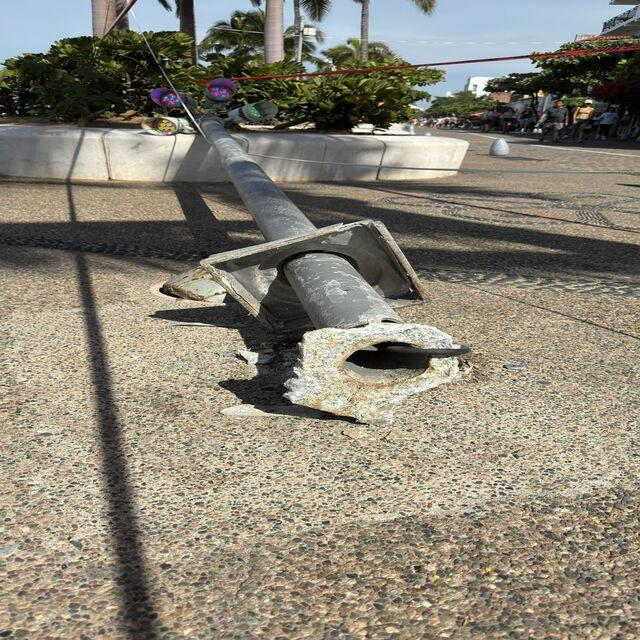Inclined Pole: (164, 110, 470, 417)
